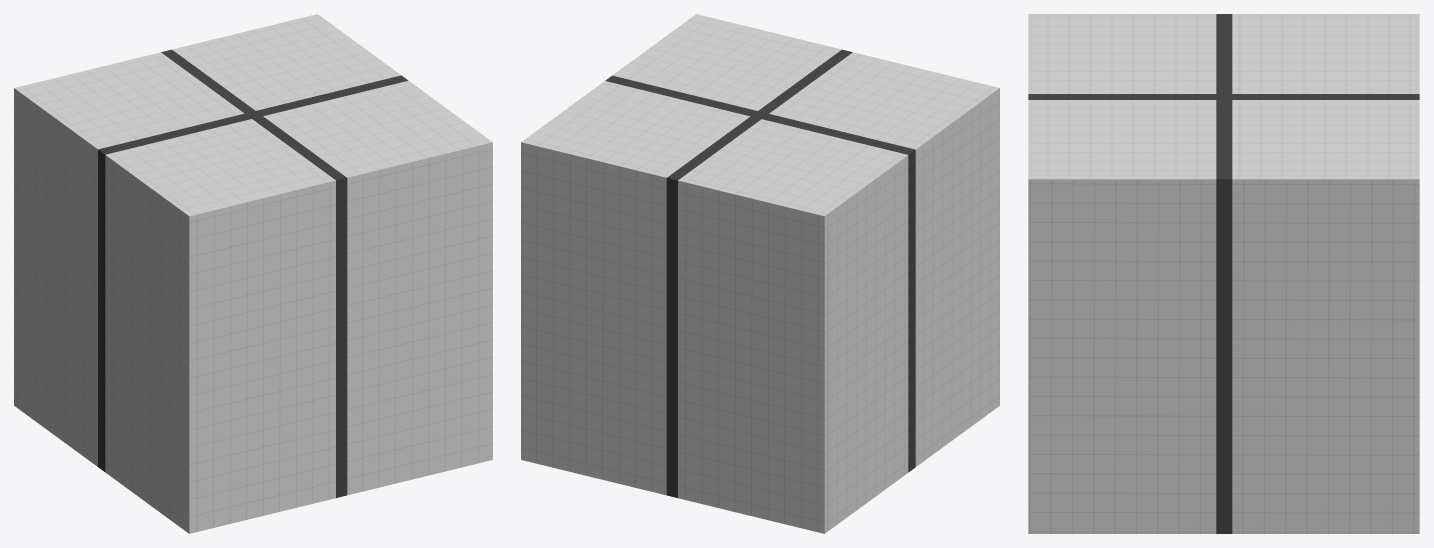
The model's file is Wall.gltf.
The picture shows the model from 3 angles, left to right: view 1: azimuth 30°, elevation 25°; view 2: azimuth 150°, elevation 25°; view 3: azimuth 270°, elevation 25°; orthographic projection. The views are drawn at different scales.
Visible parts, largest first — view 1: Cube; view 2: Cube; view 3: Cube.
Part boxes in pixels (x1,y1,x2,y2): Cube: (14,14,492,533); Cube: (521,14,999,533); Cube: (1028,14,1419,533).
Bounding box in the file's own units: 5 × 5 × 5.
2 materials, 2 textured.
